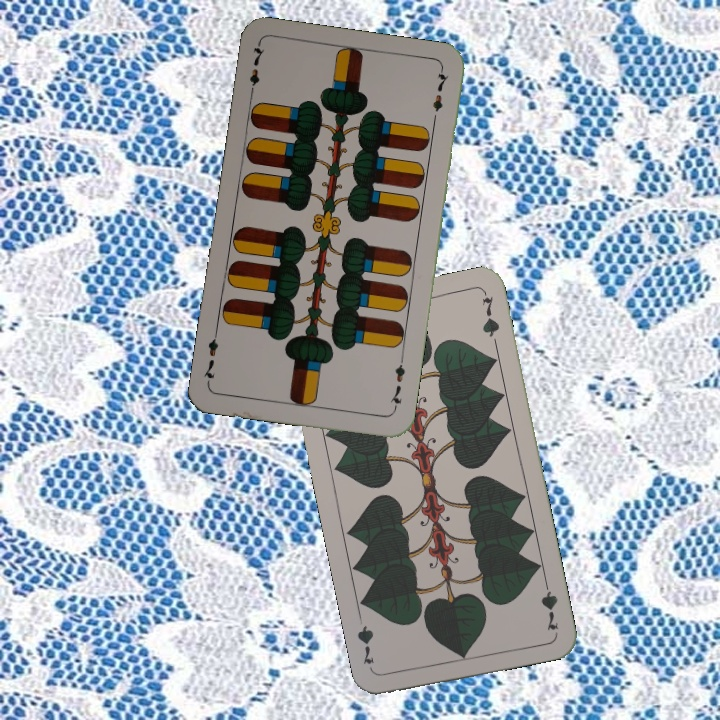E7: (245, 41, 267, 100), (387, 354, 408, 413)
G7: (537, 574, 561, 634)
